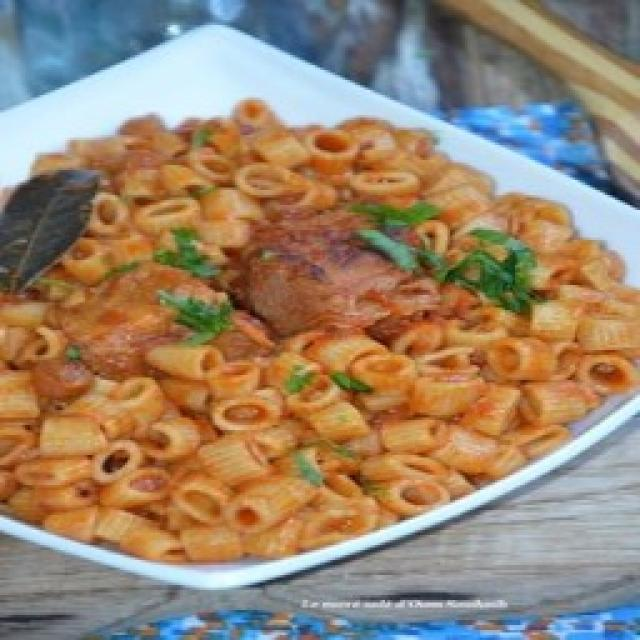Pasta: (0, 98, 640, 582)
